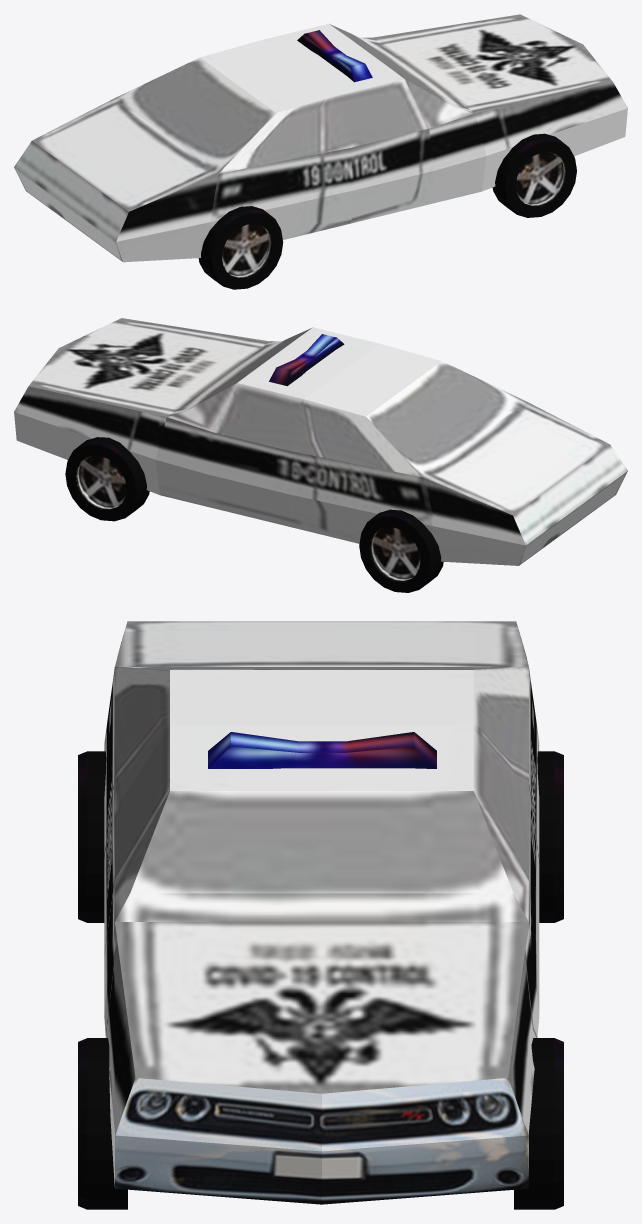
The model's file is policecar.fbx.
3 views of the same model, one above another, from view 1: azimuth 30°, elevation 25°; view 2: azimuth 150°, elevation 25°; view 3: azimuth 270°, elevation 25° (orthographic). The views are drawn at different scales.
Visible parts, largest first — view 1: Cube.002, Cylinder.001, Cube.003; view 2: Cube.002, Cylinder.001, Cube.003; view 3: Cube.002, Cylinder.001, Cube.003.
Part boxes in pixels (<box>): Cube.002: <box>14,14,627,262</box>; Cylinder.001: <box>198,133,576,289</box>; Cube.003: <box>297,30,372,82</box>; Cube.002: <box>14,318,627,565</box>; Cylinder.001: <box>65,437,443,592</box>; Cube.003: <box>269,334,344,386</box>; Cube.002: <box>104,621,539,1204</box>; Cylinder.001: <box>78,751,563,1209</box>; Cube.003: <box>208,732,436,768</box>.
Size of the model in its own units: 400 by 116 by 160.
Materials: 1 (1 with a texture image).
